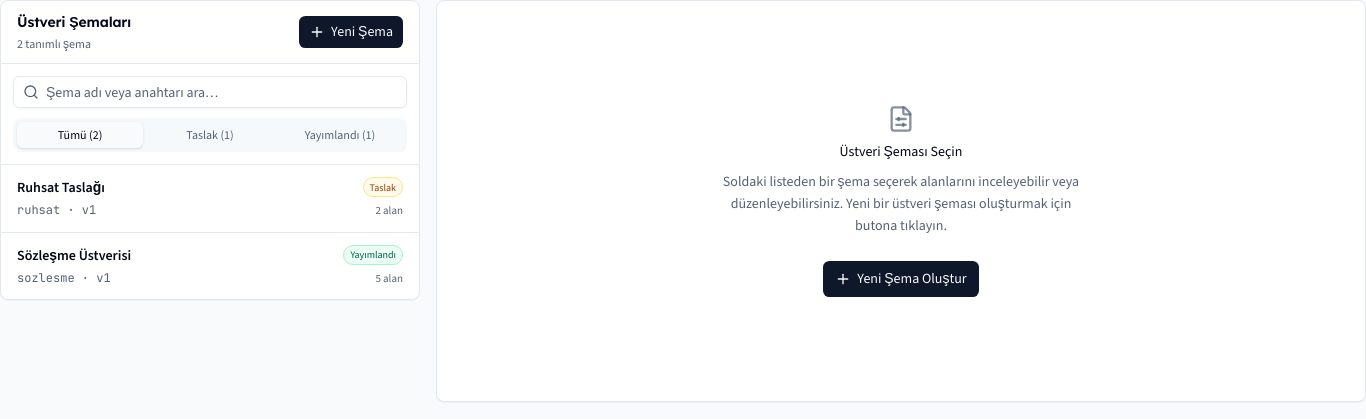
Test: filters schemas by search query
Check: the text "Ruhsat Taslağı" is shown, box [17, 178, 105, 197]
Check: the text "Sözleşme Üstverisi" is shown, box [17, 246, 131, 264]
Step 1. Type "ruhsat" into the field with placeholder "Şema adı veya anahtarı ara…" → point(210, 92), box [13, 76, 407, 108]
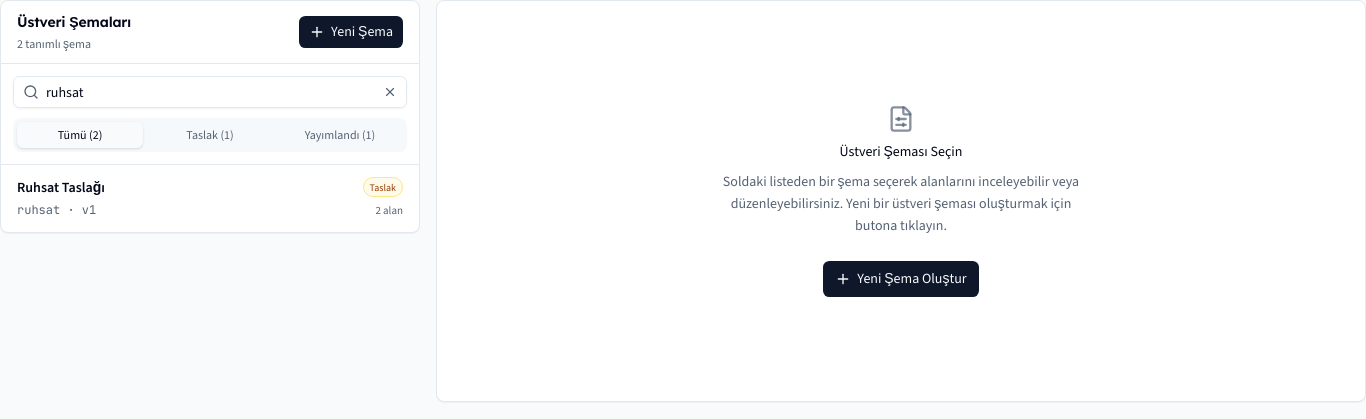
Check: the text "Ruhsat Taslağı" is shown, box [17, 178, 105, 197]
Check: the link "Sözleşme Üstverisi" is gone
